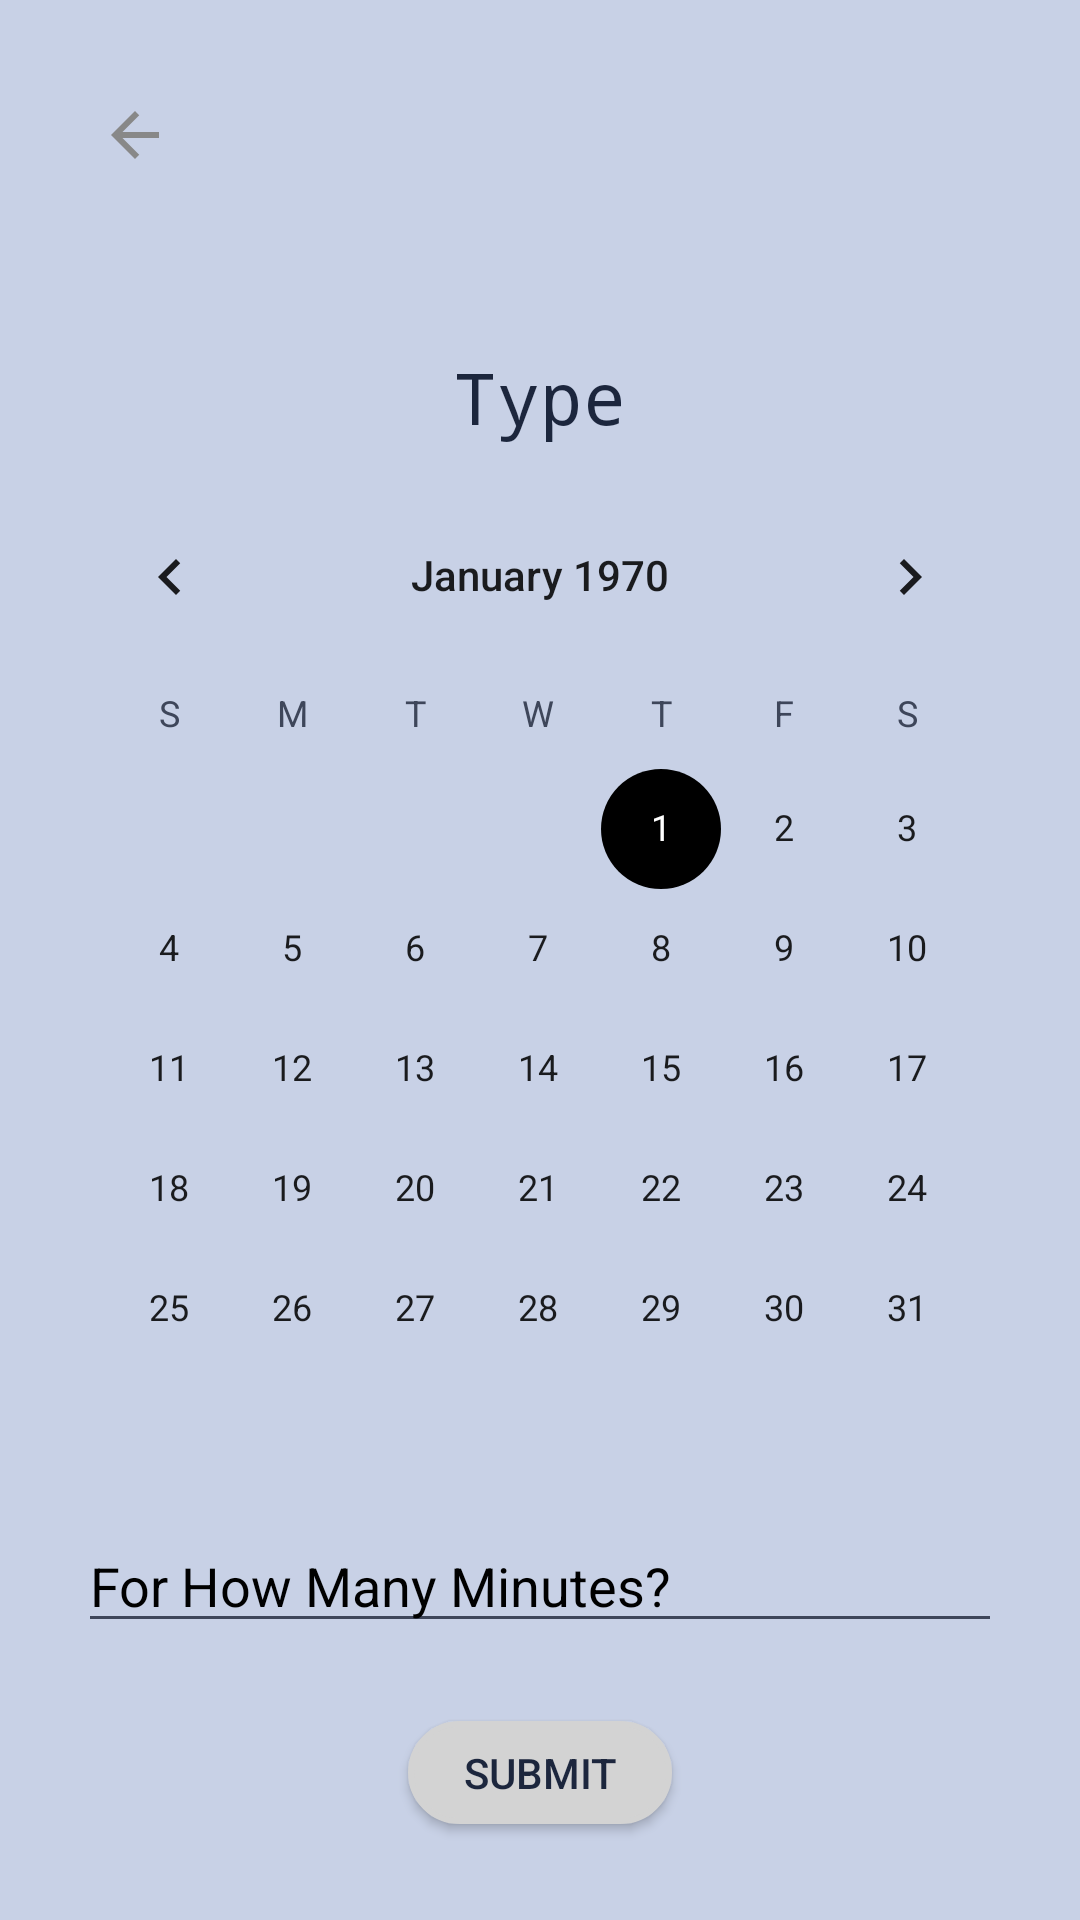

Where to tap for icons on this 1080px×1920px app screen, as point (x, y):
arrow back: point (135, 135)
